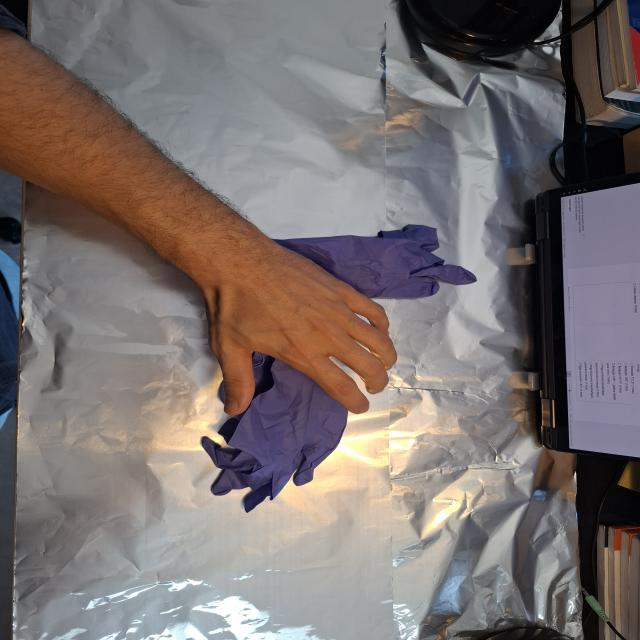glove_off: (201, 250, 400, 417)
